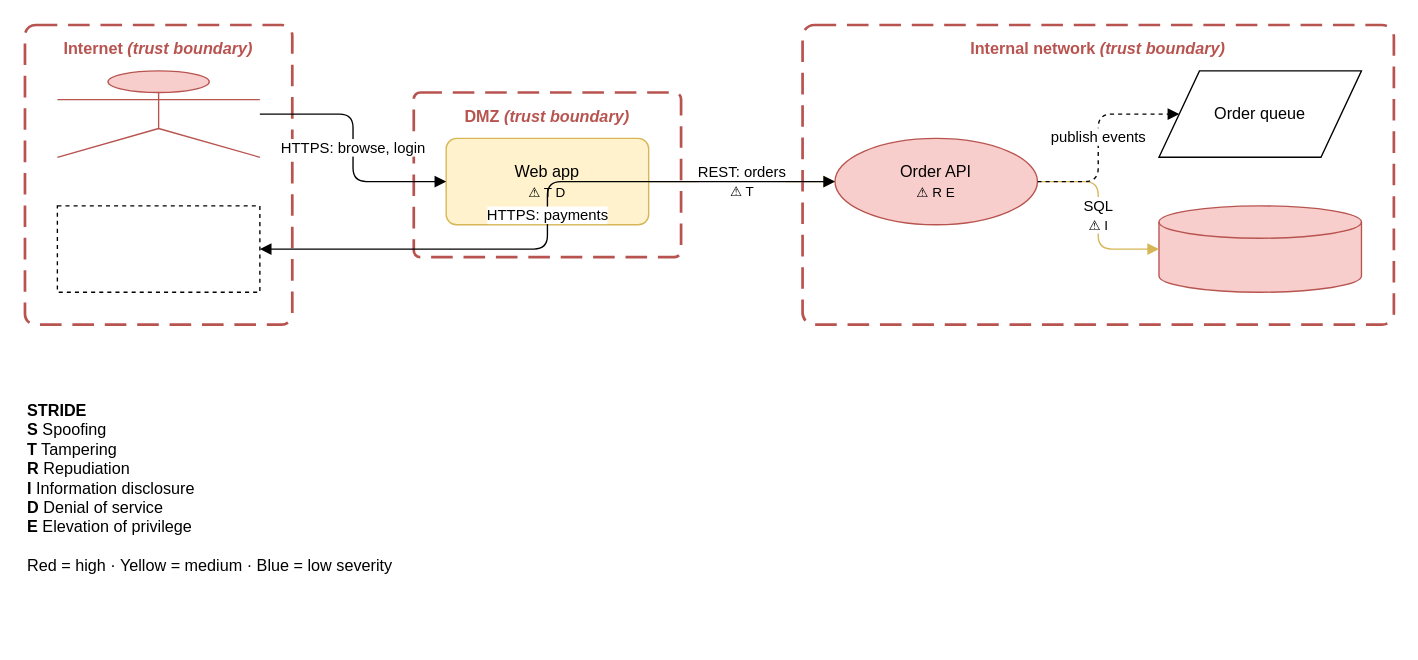
Some shapes in this 1418 by 660 pixel diagram are drawn without their labels. The centre of each missing label's shape, as x and y in pixels:
"Customer ⚠ S" goes at (158,113).
"Orders DB ⚠ I" goes at (1259,248).
"Payment provider" goes at (158,248).
